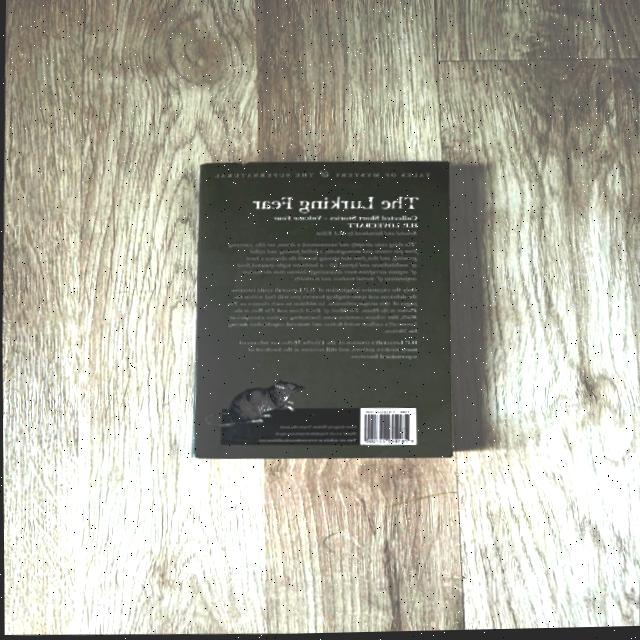Book: (189, 165, 454, 462)
